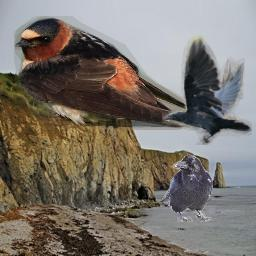Crow: (162, 34, 252, 145), (160, 154, 213, 222)
Swallow: (14, 16, 206, 130)
